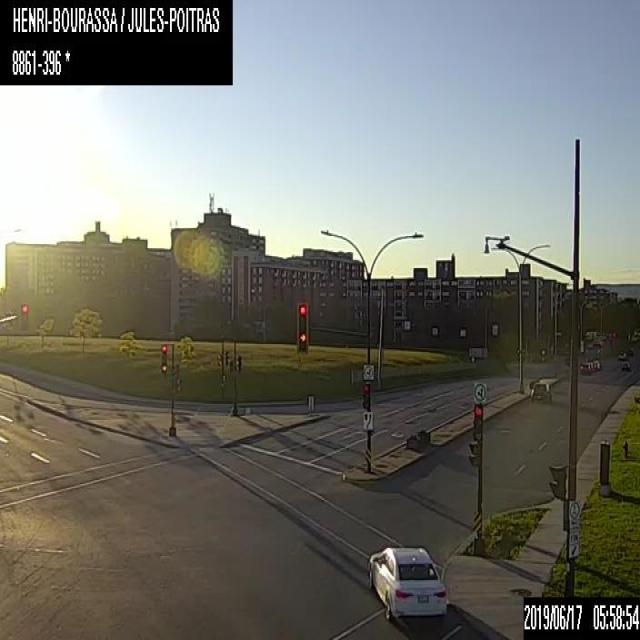vehicle: (364, 545, 446, 620), (530, 380, 551, 402), (580, 362, 592, 374), (590, 358, 602, 370), (620, 360, 630, 370), (618, 351, 626, 360)
